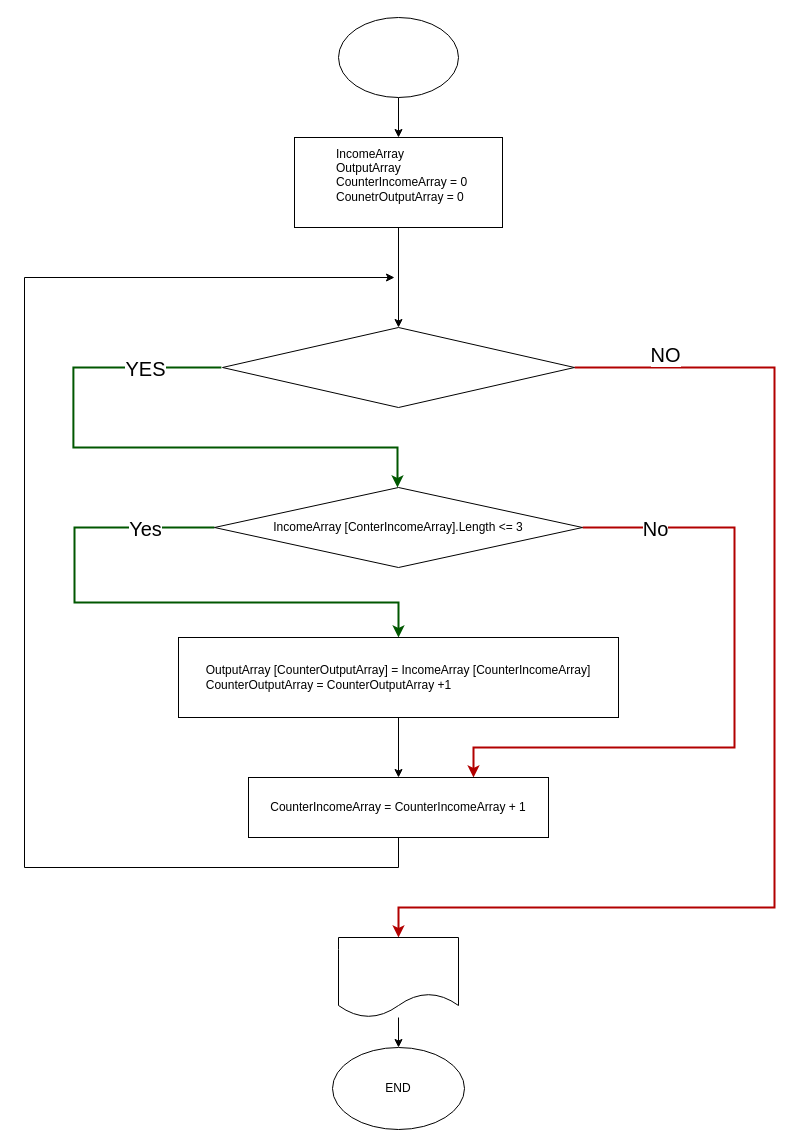
This 801x1147 diagram has some shape labels left out. The shapes that lost their labels are listed below. From the top down, each one's centre as x and y in pixels, then its label:
At point 398,57: "Start".
At point 398,367: "Counter IncomeArray <= IncomeArray.Length".
At point 398,977: "Print OutputArray".
